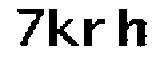7: (13, 4, 45, 50)
h: (117, 5, 150, 50)
k: (47, 6, 80, 52)
r: (81, 12, 107, 49)
